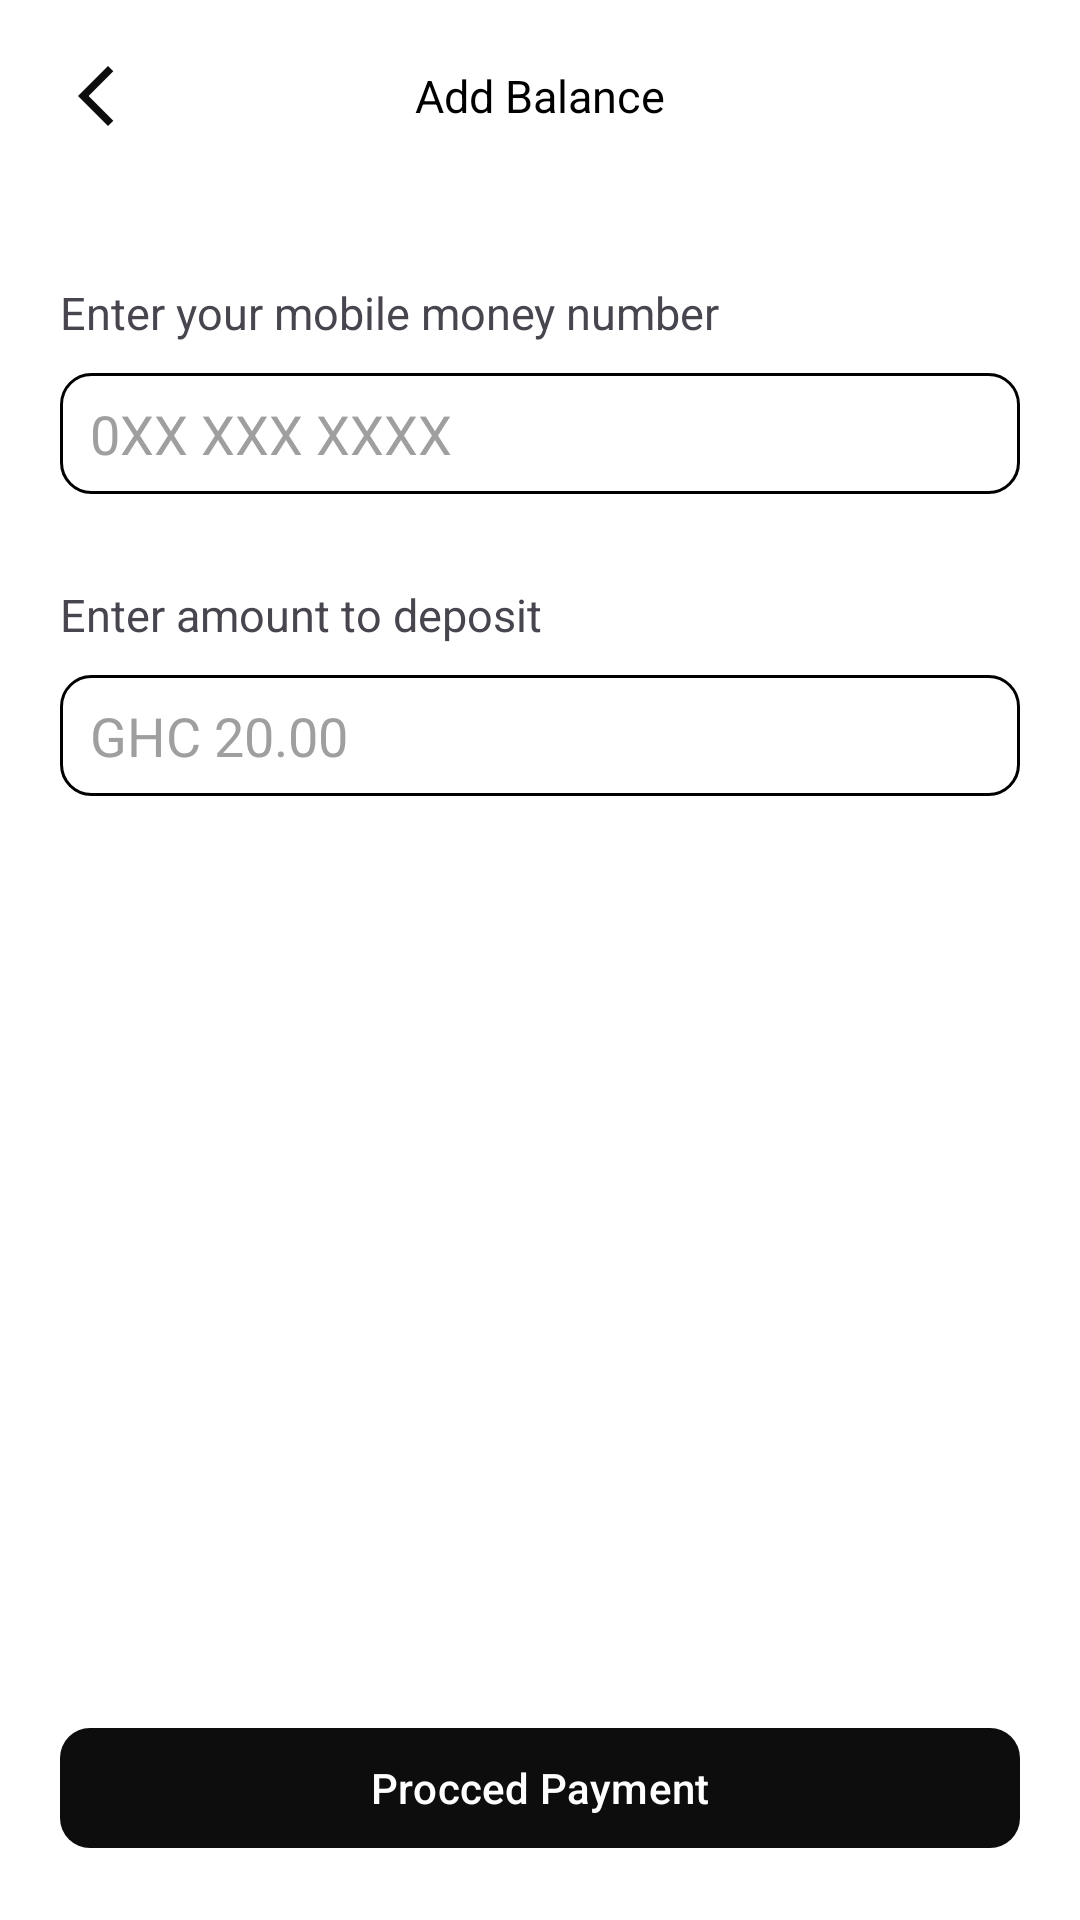

Locate icon controls on the screen. Image size 1080*1920, boxes as (x1, y1, x2, y2).
Arrow Back: (78, 66, 113, 126)
